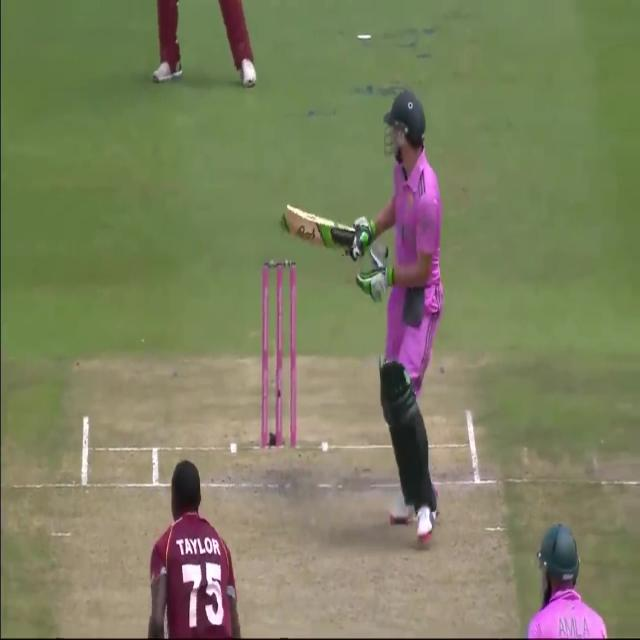Ball: (283, 78, 448, 550), (518, 520, 620, 640)
Fielder: (145, 457, 241, 638), (150, 0, 258, 96)
